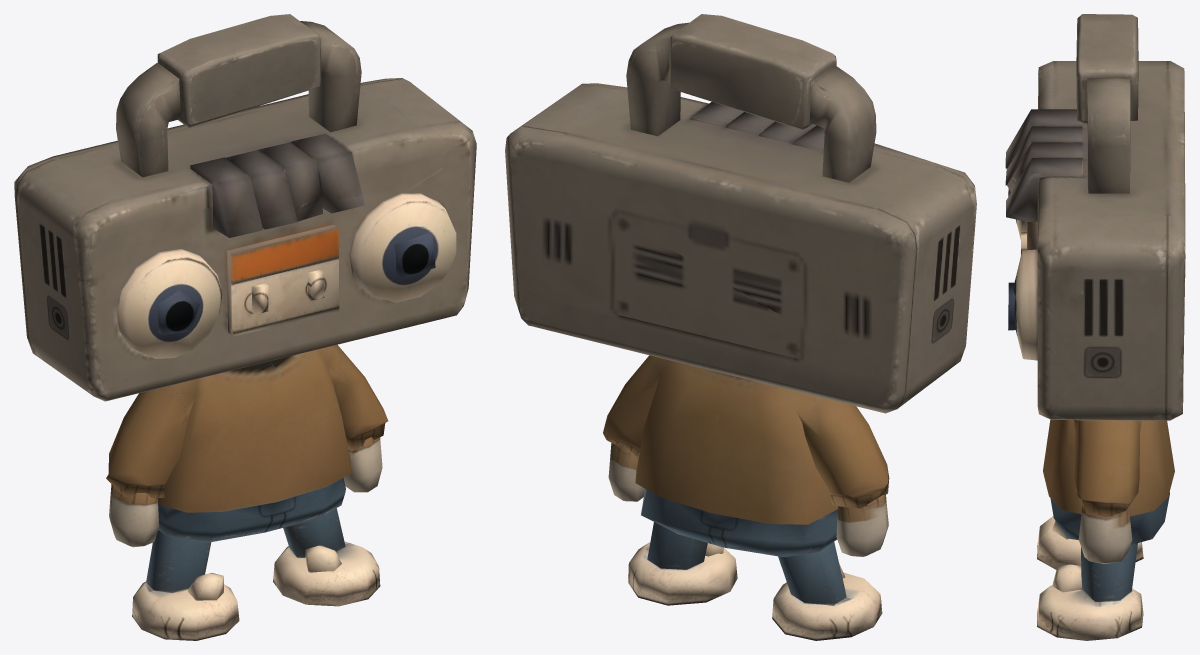
The model's file is juke-opt.glb.
3 renders of one model, left to right at view 1: azimuth 30°, elevation 25°; view 2: azimuth 150°, elevation 25°; view 3: azimuth 270°, elevation 25°, orthographic. The views are drawn at different scales.
Visible parts, largest first — view 1: head, torso, handle_grip, handle, cassette_door, speaker_R, speaker_L, shoe_R, shoe_L, button_1, button_4, leg_L (+9 smaller); view 2: head, torso, handle_grip, handle, shoe_L, shoe_R, leg_L, hand_L, leg_R, hand_R, button_4, button_3 (+1 smaller); view 3: head, torso, handle, handle_grip, shoe_R, hand_R, button_4, speaker_R, leg_R, shoe_L, button_1, button_2 (+4 smaller).
Boxes of the visible parts, bbox=[...] form: head: bbox=[14, 78, 476, 401]; torso: bbox=[106, 344, 388, 542]; handle_grip: bbox=[157, 14, 321, 127]; handle: bbox=[116, 21, 361, 177]; cassette_door: bbox=[226, 224, 339, 336]; speaker_R: bbox=[349, 193, 456, 302]; speaker_L: bbox=[116, 249, 222, 358]; shoe_R: bbox=[273, 541, 380, 606]; shoe_L: bbox=[132, 581, 239, 640]; button_1: bbox=[190, 157, 263, 237]; button_4: bbox=[291, 133, 364, 213]; leg_L: bbox=[146, 530, 211, 593]; head: bbox=[505, 83, 976, 413]; torso: bbox=[603, 355, 889, 557]; handle_grip: bbox=[669, 14, 836, 130]; handle: bbox=[626, 22, 876, 182]; shoe_L: bbox=[772, 572, 882, 640]; shoe_R: bbox=[628, 542, 737, 605]; leg_L: bbox=[778, 542, 846, 605]; hand_L: bbox=[836, 495, 888, 556]; leg_R: bbox=[647, 522, 707, 569]; hand_R: bbox=[608, 443, 644, 501]; button_4: bbox=[690, 102, 743, 127]; button_3: bbox=[726, 112, 774, 135]; head: bbox=[1037, 61, 1185, 420]; torso: bbox=[1043, 419, 1174, 544]; handle: bbox=[1087, 78, 1130, 193]; handle_grip: bbox=[1076, 14, 1138, 124]; shoe_R: bbox=[1037, 585, 1143, 640]; hand_R: bbox=[1078, 506, 1132, 564]; button_4: bbox=[1006, 158, 1082, 221]; speaker_R: bbox=[1013, 249, 1037, 360]; leg_R: bbox=[1081, 543, 1137, 601]; shoe_L: bbox=[1037, 516, 1143, 569]; button_1: bbox=[1005, 109, 1082, 168]; button_2: bbox=[1005, 126, 1082, 185].
Size of the model in its own units: 0.7523 by 1 by 0.2987.
Materials: 1 (1 with a texture image).
